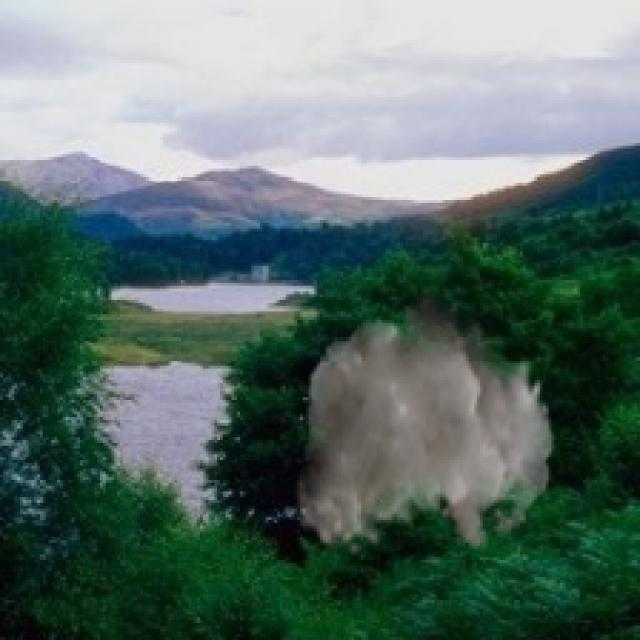Smoke: (294, 286, 554, 558)
